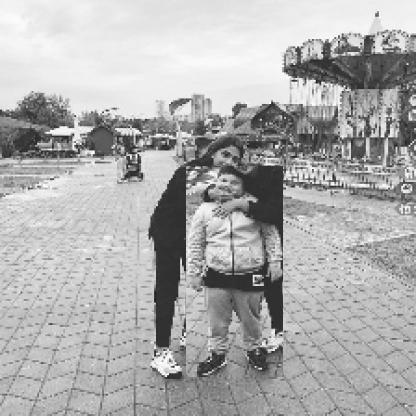child: (187, 167, 285, 379)
